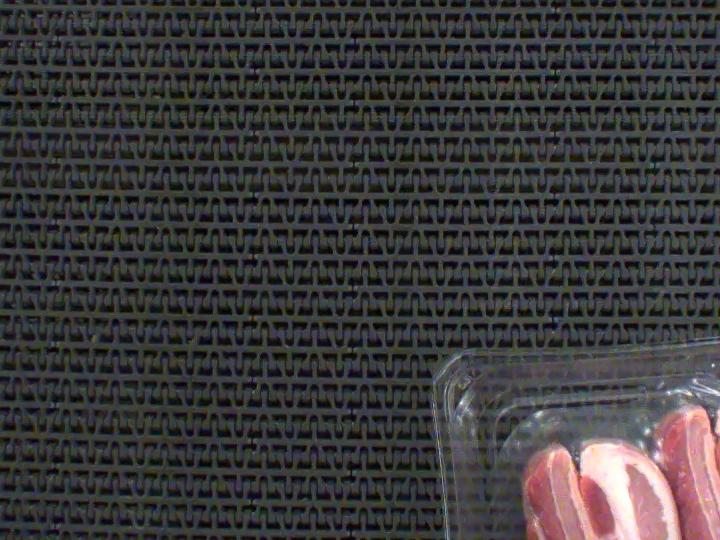unsealed: (453, 338, 720, 540)
